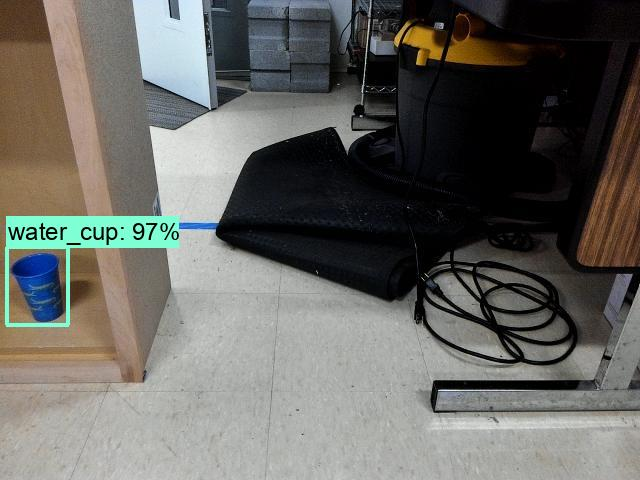water_cup: (8, 247, 70, 320)
